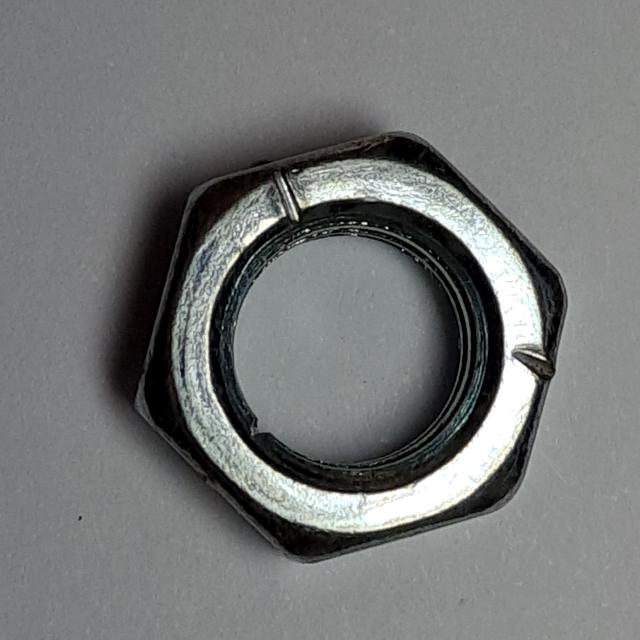Scratches: (121, 121, 578, 581)
